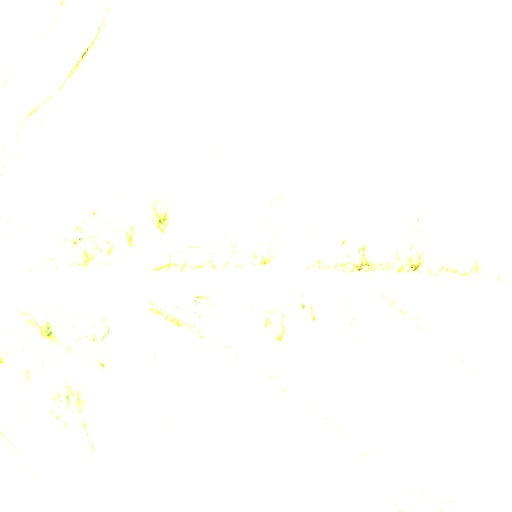Angular Leafspot: (0, 132, 491, 464)
